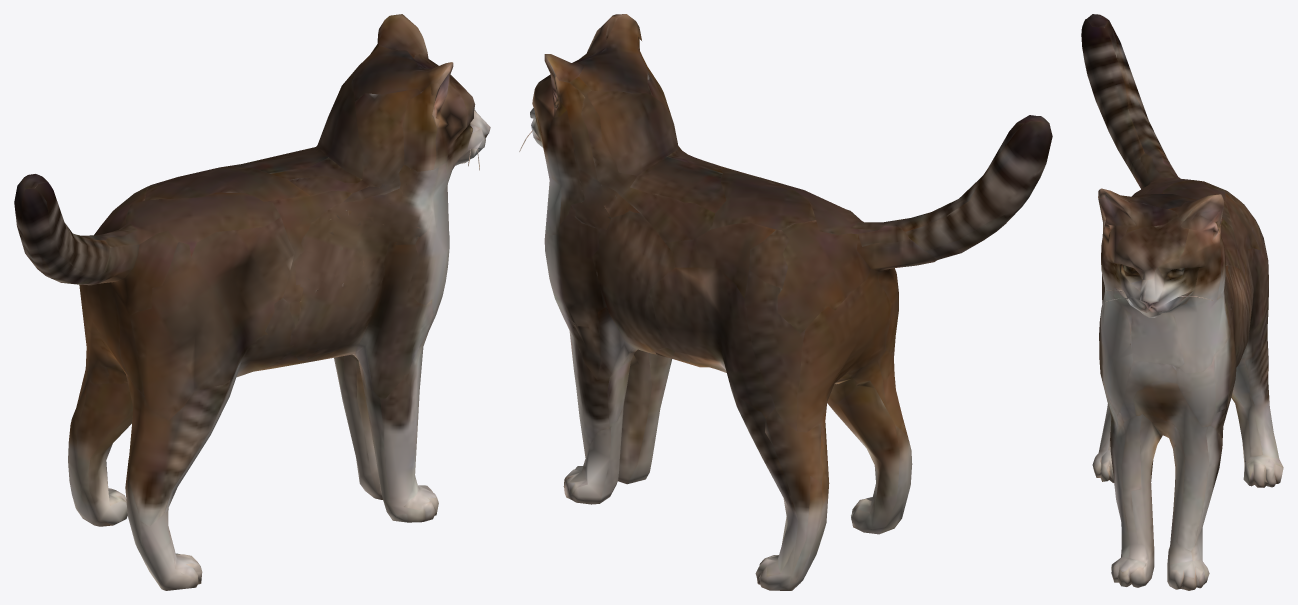
Rendered from LARRY10-lo.glb.
The picture shows the model from 3 angles, left to right: view 1: azimuth 30°, elevation 25°; view 2: azimuth 150°, elevation 25°; view 3: azimuth 270°, elevation 25°; orthographic projection. The views are drawn at different scales.
Visible parts, largest first — view 1: material; view 2: material; view 3: material.
Boxes of the visible parts, bbox=[...] form: material: bbox=[14, 14, 490, 590]; material: bbox=[519, 14, 1052, 590]; material: bbox=[1081, 14, 1283, 590].
Size of the model in its own units: 1.14 by 0.9991 by 0.4554.
1 material, 1 textured.
